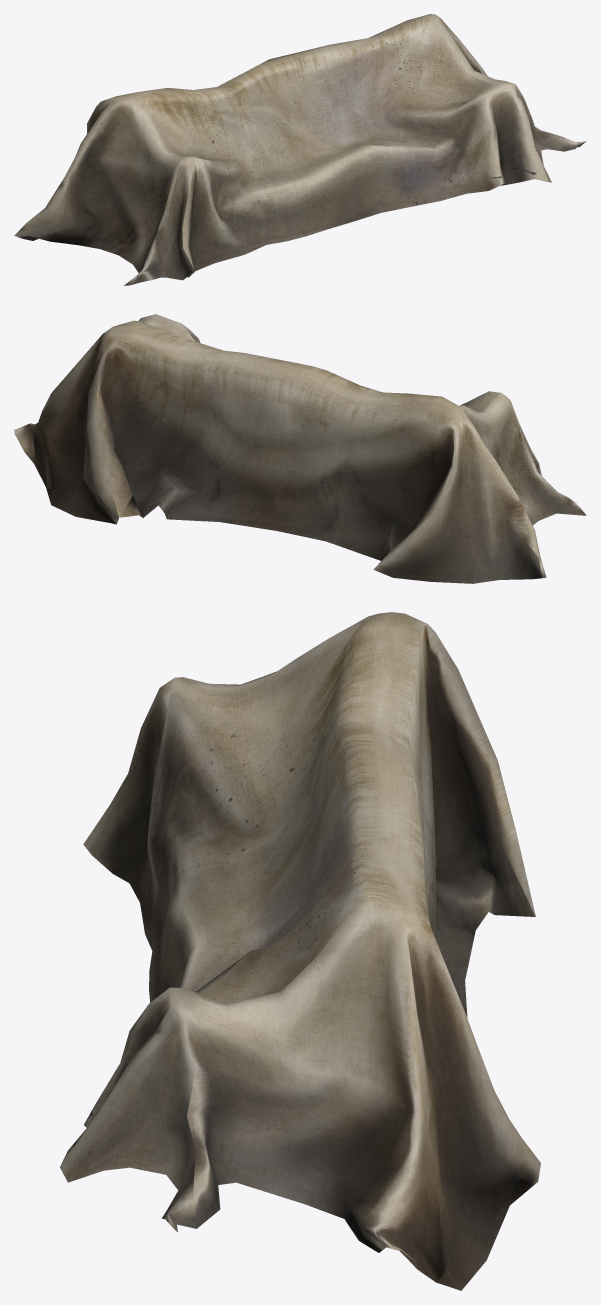
The model's file is sofa.FBX.
3 renders of one model, top to bottom at view 1: azimuth 30°, elevation 25°; view 2: azimuth 150°, elevation 25°; view 3: azimuth 270°, elevation 25°, orthographic. The views are drawn at different scales.
Parts seen in each view (by area): view 1: sofa; view 2: sofa; view 3: sofa.
Part boxes in pixels (x1,y1,x2,y2): sofa: (14, 14, 586, 285); sofa: (14, 314, 586, 583); sofa: (60, 612, 540, 1290).
Bounding box in the file's own units: 88.62 × 28.15 × 36.4.
Materials: 1 (1 with a texture image).
